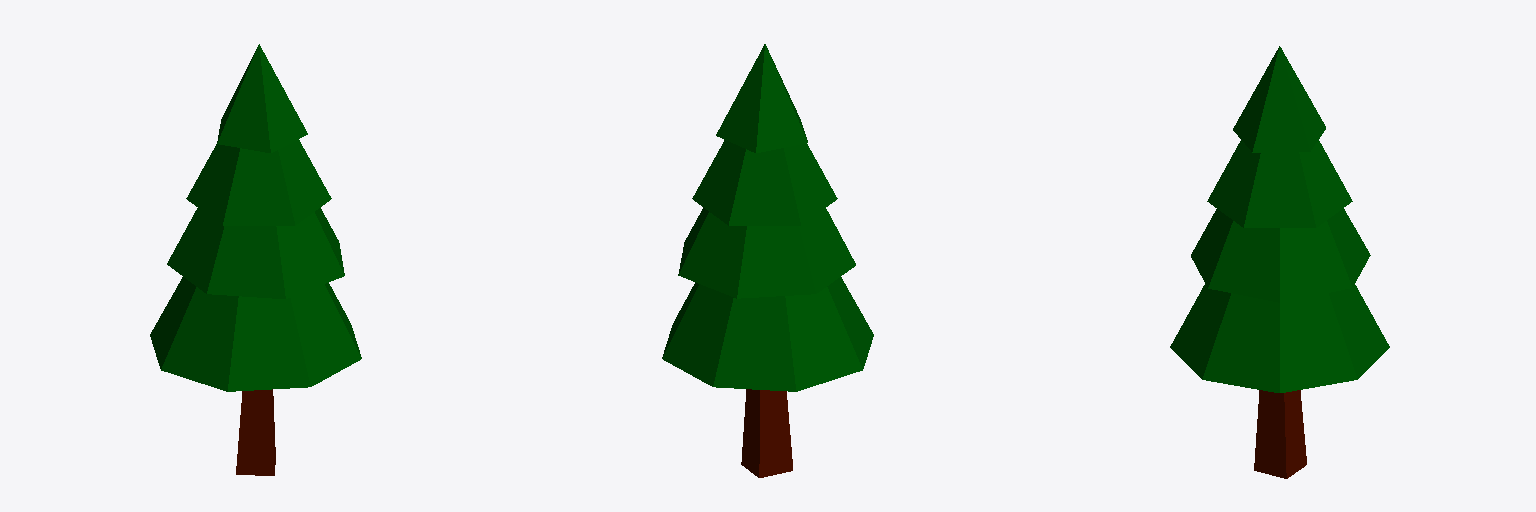
Rendered from tree_3.obj.
The picture shows the model from 3 angles: view 1: azimuth 30°, elevation 25°; view 2: azimuth 150°, elevation 25°; view 3: azimuth 270°, elevation 25°; orthographic projection.
Parts seen in each view (by area): view 1: Cone.003, Cone.002, Cone.001, Cone, Cube; view 2: Cone.003, Cone.002, Cone.001, Cone, Cube; view 3: Cone.003, Cone.002, Cone.001, Cone, Cube.
Boxes of the visible parts, x1,y1,x2,y2 form: Cone.003: [150, 277, 361, 391]; Cone.002: [167, 208, 344, 298]; Cone.001: [186, 139, 331, 225]; Cone: [217, 44, 307, 152]; Cube: [236, 389, 275, 475]; Cone.003: [662, 277, 873, 391]; Cone.002: [678, 207, 855, 298]; Cone.001: [692, 140, 837, 225]; Cone: [716, 44, 807, 152]; Cube: [741, 389, 792, 477]; Cone.003: [1170, 284, 1389, 392]; Cone.002: [1191, 208, 1370, 302]; Cone.001: [1207, 140, 1352, 227]; Cone: [1233, 46, 1325, 152]; Cube: [1254, 390, 1306, 478].
Size of the model in its own units: 4.44 by 9.45 by 4.44.